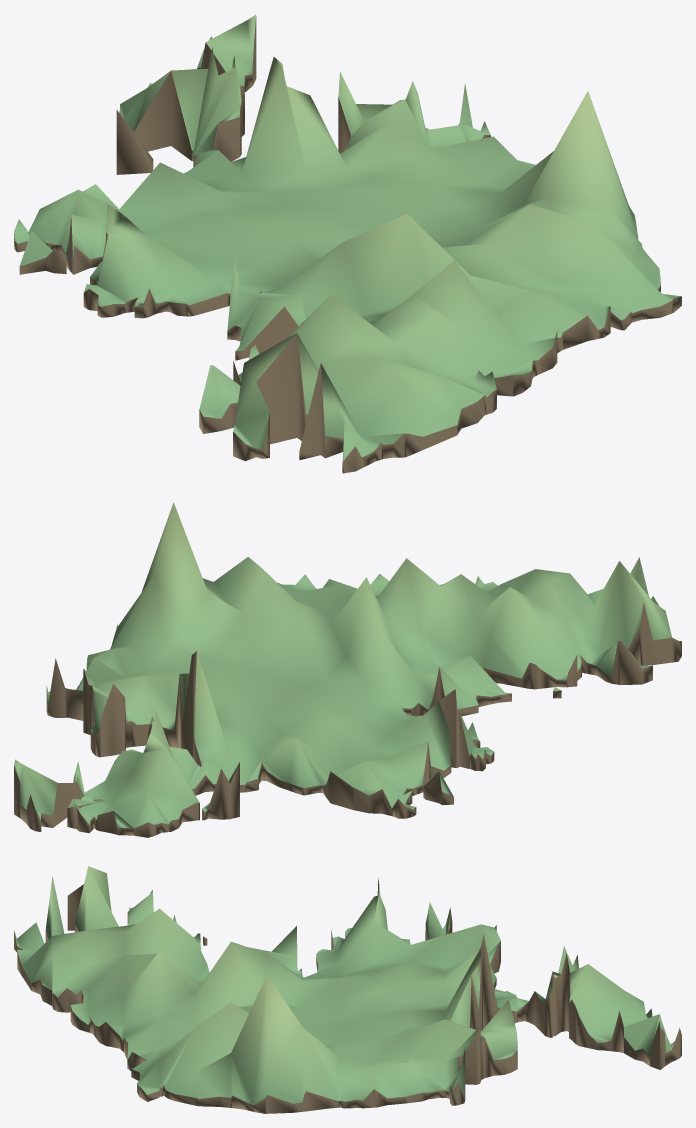
File: IRL.glb
3 renders of one model, top to bottom at view 1: azimuth 30°, elevation 25°; view 2: azimuth 150°, elevation 25°; view 3: azimuth 270°, elevation 25°, orthographic. The views are drawn at different scales.
Visible parts, largest first — view 1: IRL; view 2: IRL; view 3: IRL.
Boxes of the visible parts, <box> form: IRL: <box>14,14,681,473</box>; IRL: <box>14,502,681,837</box>; IRL: <box>14,866,681,1113</box>.
Size of the model in its own units: 1.15 by 0.338 by 1.68.
